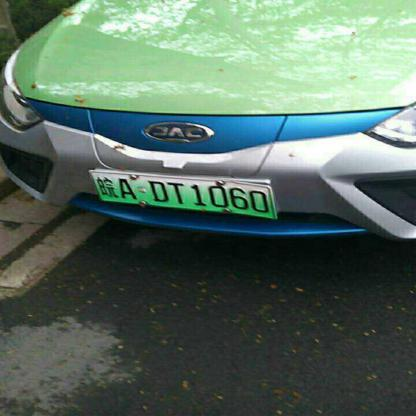lp: (91, 172, 277, 219)
